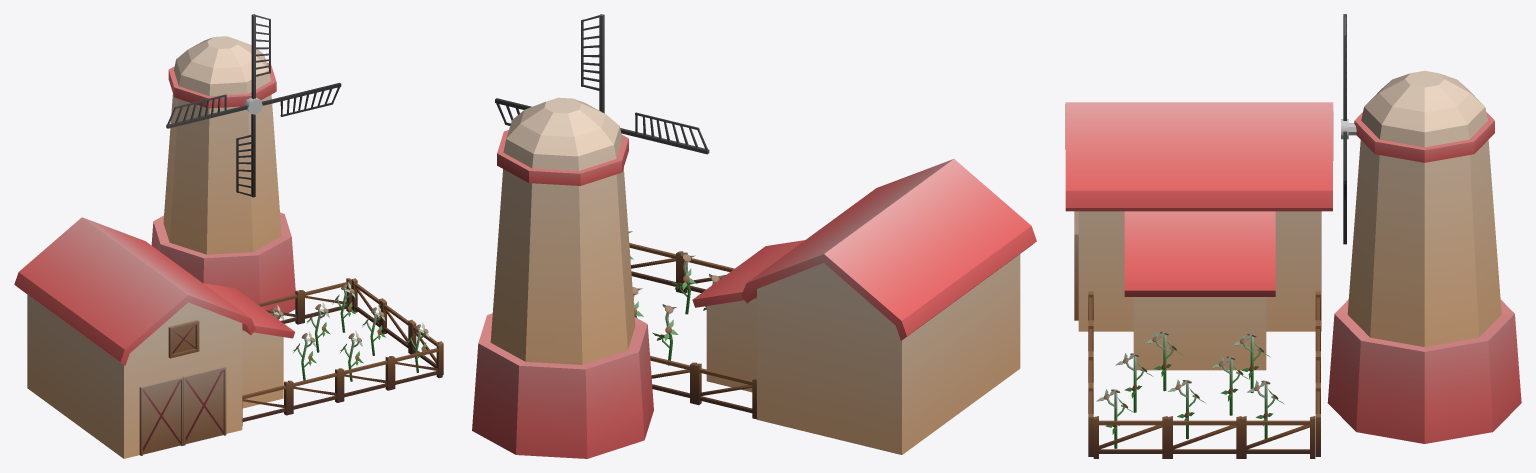
3 views of the same model, side by side, from view 1: azimuth 30°, elevation 25°; view 2: azimuth 150°, elevation 25°; view 3: azimuth 270°, elevation 25° (orthographic). The views are drawn at different scales.
Parts seen in each view (by area): view 1: MSH_Granja_Material #0_0; view 2: MSH_Granja_Material #0_0; view 3: MSH_Granja_Material #0_0.
Boxes of the visible parts, x1,y1,x2,y2 form: MSH_Granja_Material #0_0: [14, 14, 443, 458]; MSH_Granja_Material #0_0: [472, 14, 1036, 458]; MSH_Granja_Material #0_0: [1065, 14, 1521, 458].
Size of the model in its own units: 226 by 199 by 212.
1 material, 1 textured.
